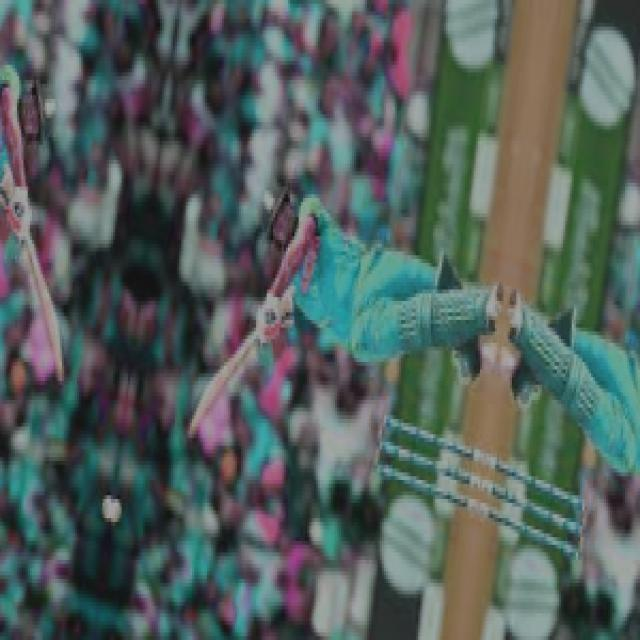toe: (180, 404, 206, 448)
